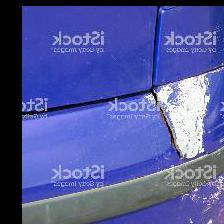bumper_scratch: (145, 52, 224, 155)
